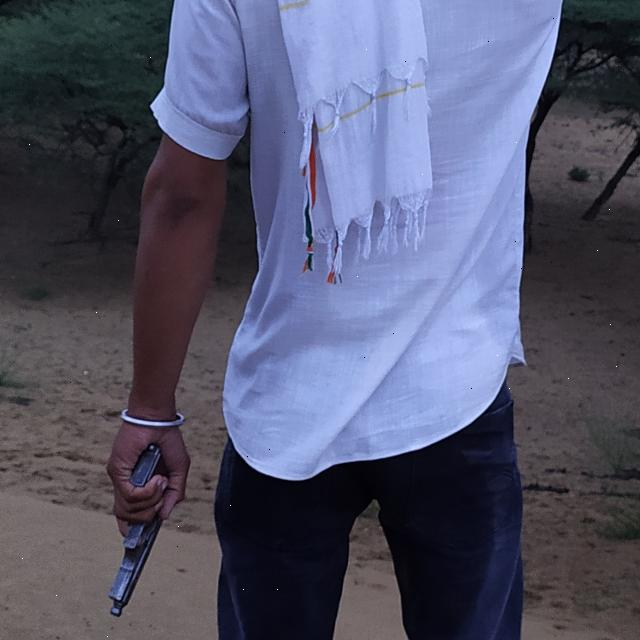gun: (78, 426, 197, 630)
